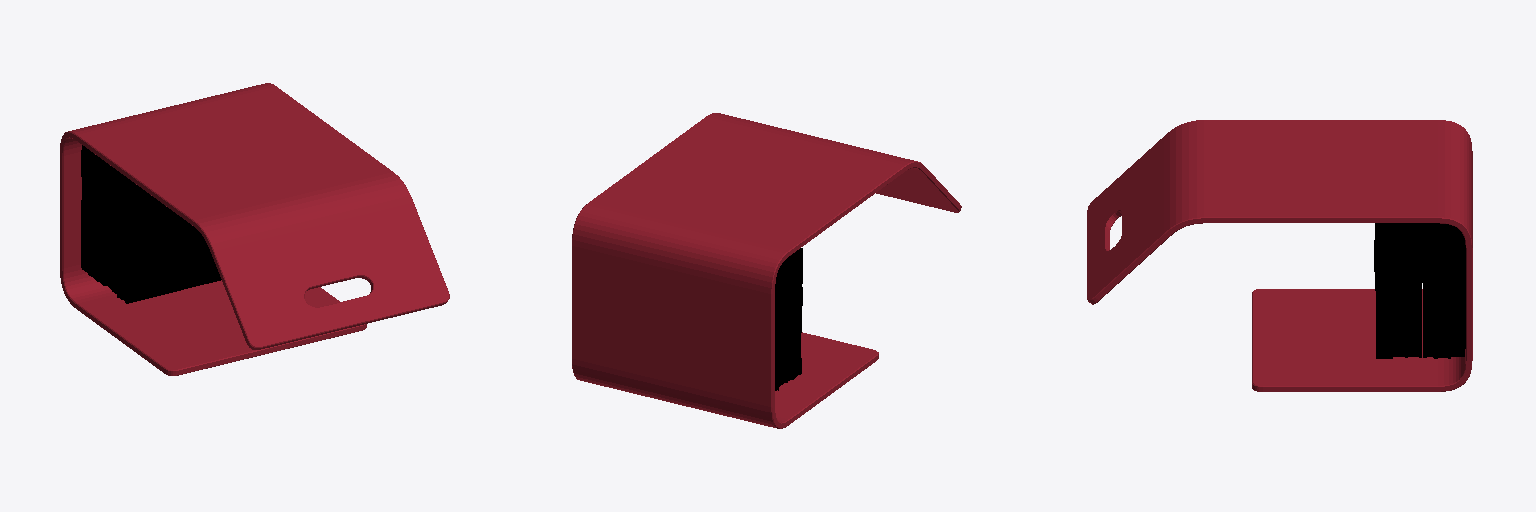
The model's file is Artek_Kanto_Rack_m_mat(3).obj.
3 renders of one model, left to right at view 1: azimuth 30°, elevation 25°; view 2: azimuth 150°, elevation 25°; view 3: azimuth 270°, elevation 25°, orthographic.
Visible parts, largest first — view 1: Artek_Kanto_Rack_m_mat3_02, Artek_Kanto_Rack_m_mat3_01; view 2: Artek_Kanto_Rack_m_mat3_02, Artek_Kanto_Rack_m_mat3_01; view 3: Artek_Kanto_Rack_m_mat3_02, Artek_Kanto_Rack_m_mat3_01.
Part boxes in pixels (left/top/right/bottom): Artek_Kanto_Rack_m_mat3_02: left=60, top=83, right=449, bottom=375; Artek_Kanto_Rack_m_mat3_01: left=81, top=145, right=221, bottom=303; Artek_Kanto_Rack_m_mat3_02: left=572, top=113, right=961, bottom=428; Artek_Kanto_Rack_m_mat3_01: left=775, top=248, right=802, bottom=390; Artek_Kanto_Rack_m_mat3_02: left=1087, top=120, right=1472, bottom=391; Artek_Kanto_Rack_m_mat3_01: left=1374, top=223, right=1465, bottom=358.
Bounding box in the file's own units: 34 × 28.3 × 56.5.